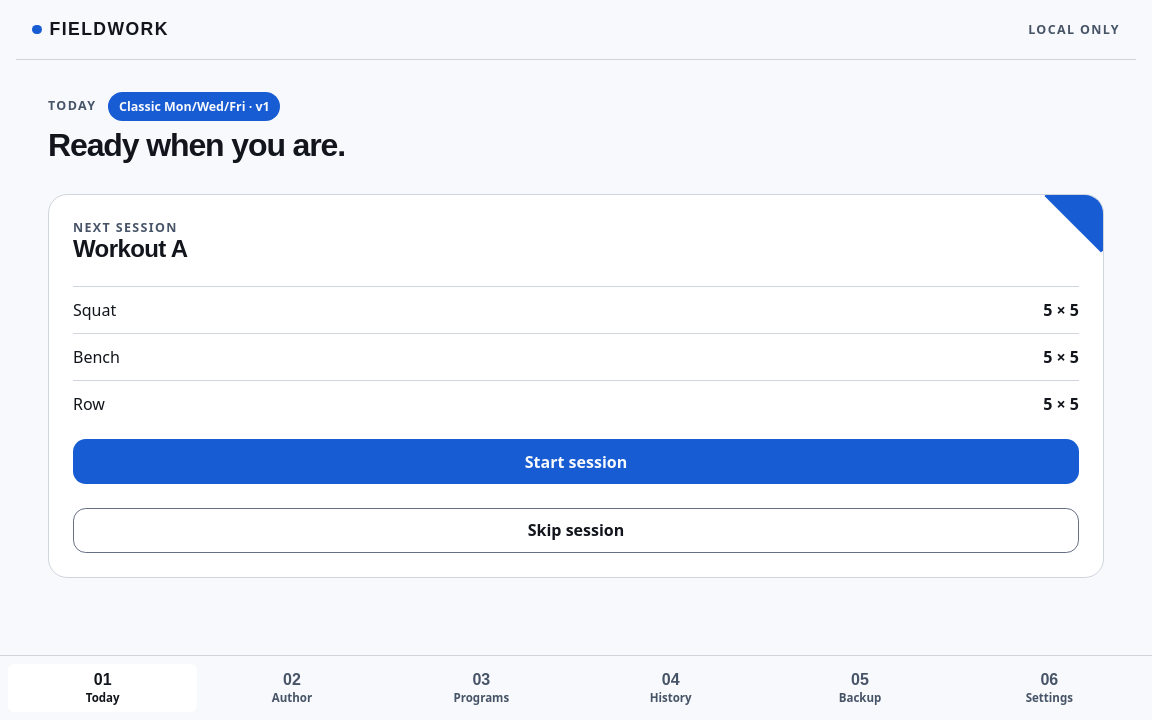
Test: records a fixed-weekday session once and does not offer it again that day
Check: the heading "Workout A" is shown, box [73, 236, 188, 262]
Click the button "Skip session".
click(576, 530)  # box [73, 508, 1079, 553]
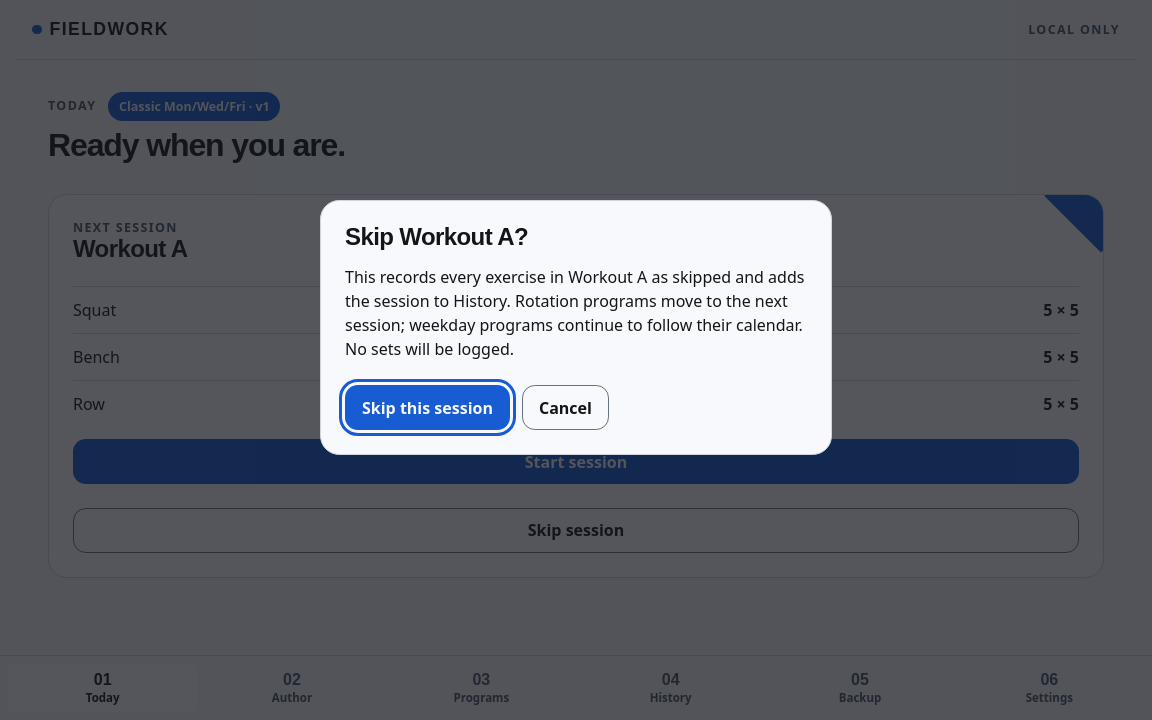
Click the button "Skip this session".
click(428, 408)  # box [345, 386, 510, 430]
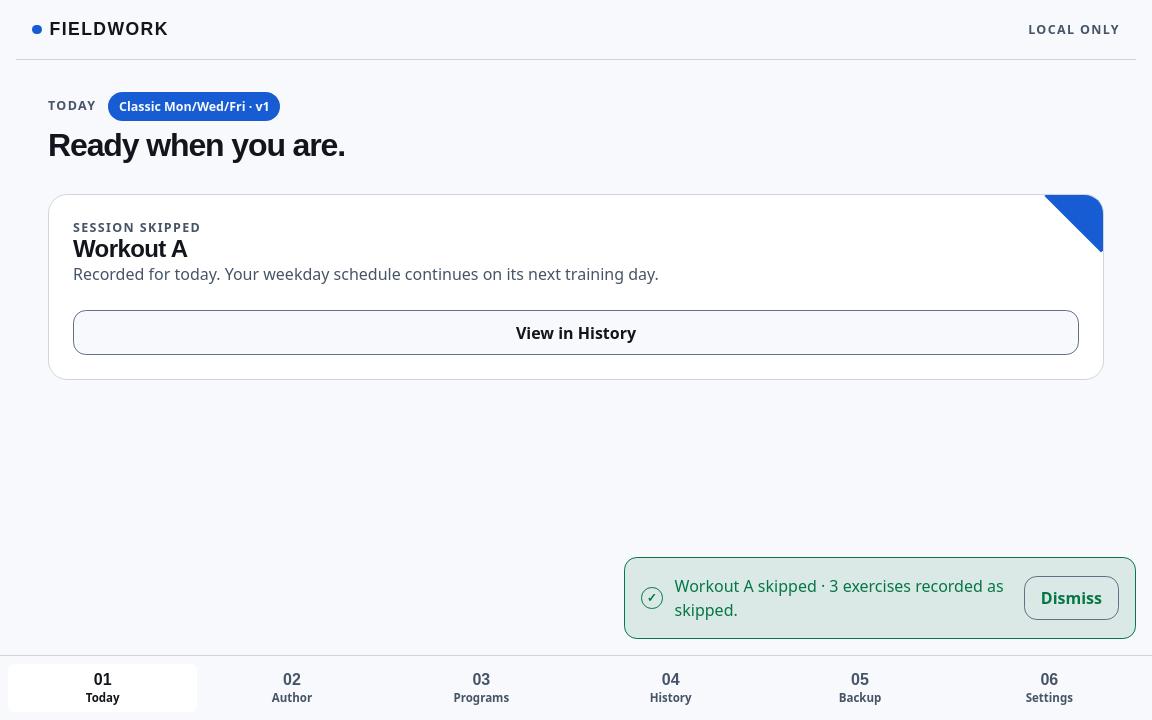
Check: the text "Session skipped" is shown, box [73, 219, 201, 236]
Check: the text "Recorded for today. Your weekday schedule continues on its next training day." is shown, box [73, 263, 659, 285]
Check: the button "Start session" is gone
